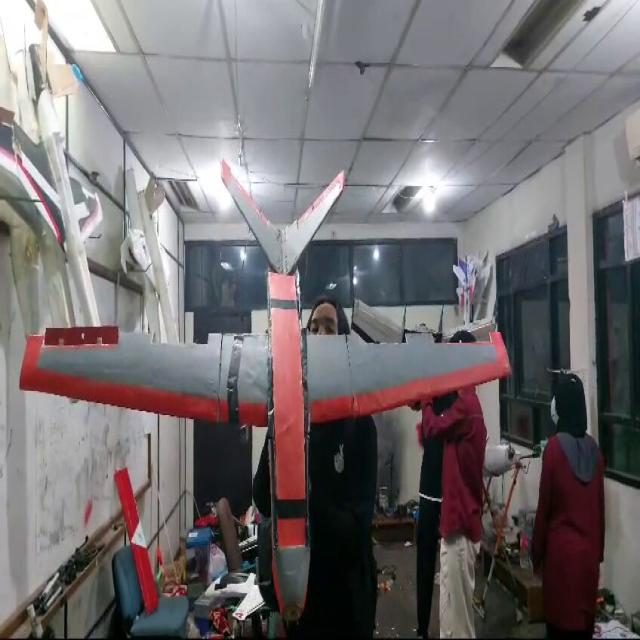plane: (18, 157, 513, 633)
